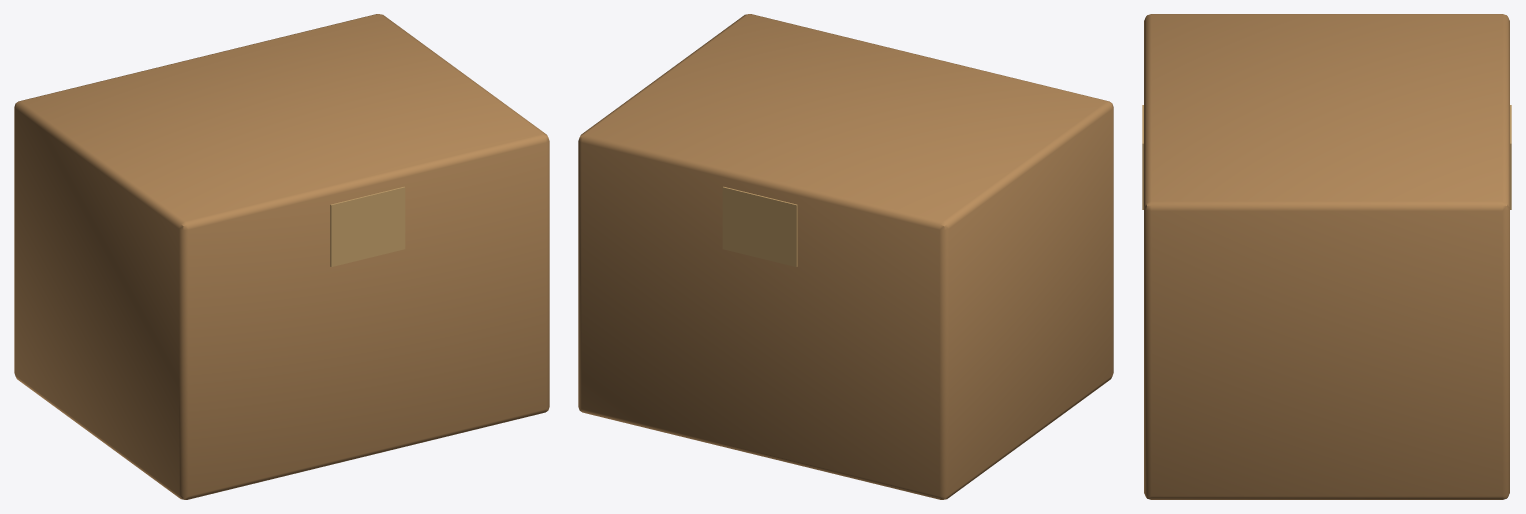
3 views of the same model, side by side, from view 1: azimuth 30°, elevation 25°; view 2: azimuth 150°, elevation 25°; view 3: azimuth 270°, elevation 25° (orthographic). The views are drawn at different scales.
Parts seen in each view (by area): view 1: box_s; view 2: box_s; view 3: box_s.
Part boxes in pixels (<box>): box_s: <box>14,14,549,499</box>; box_s: <box>578,14,1113,499</box>; box_s: <box>1142,14,1511,499</box>.
Bounding box in the file's own units: 0.25 × 0.18 × 0.202.
